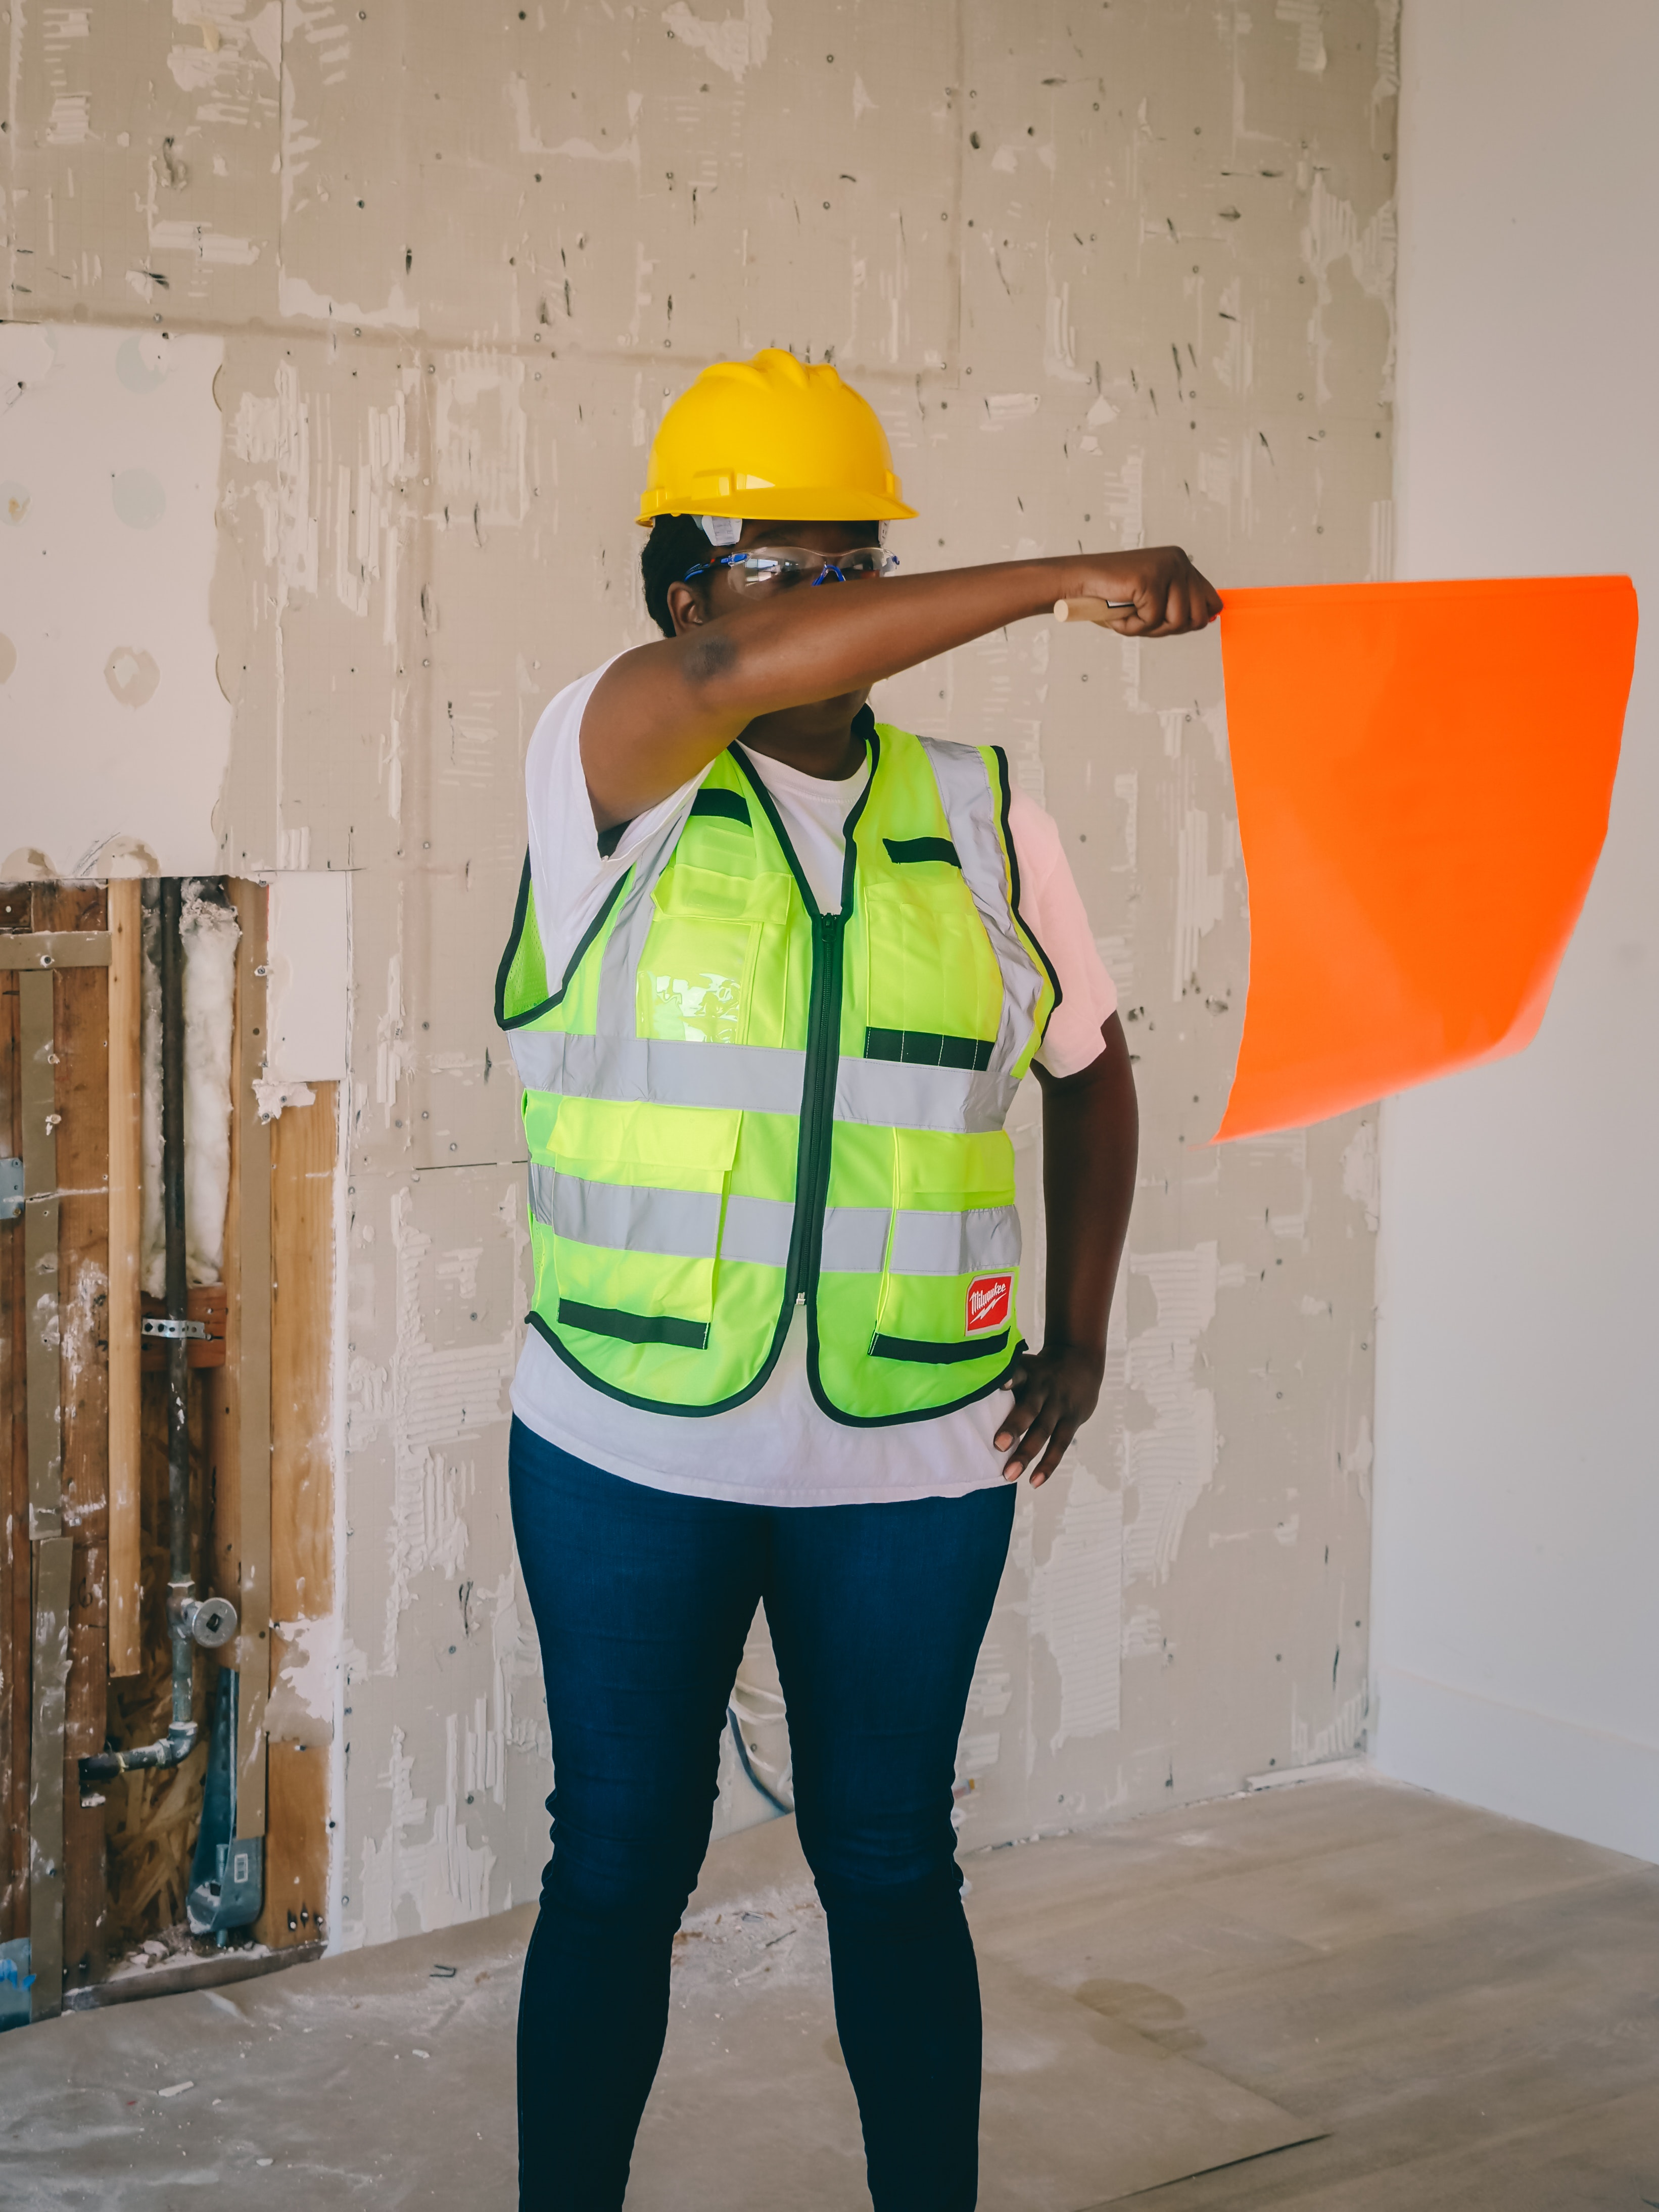Helmet: (620, 338, 950, 767)
Reflective vest: (469, 706, 1051, 1436)
